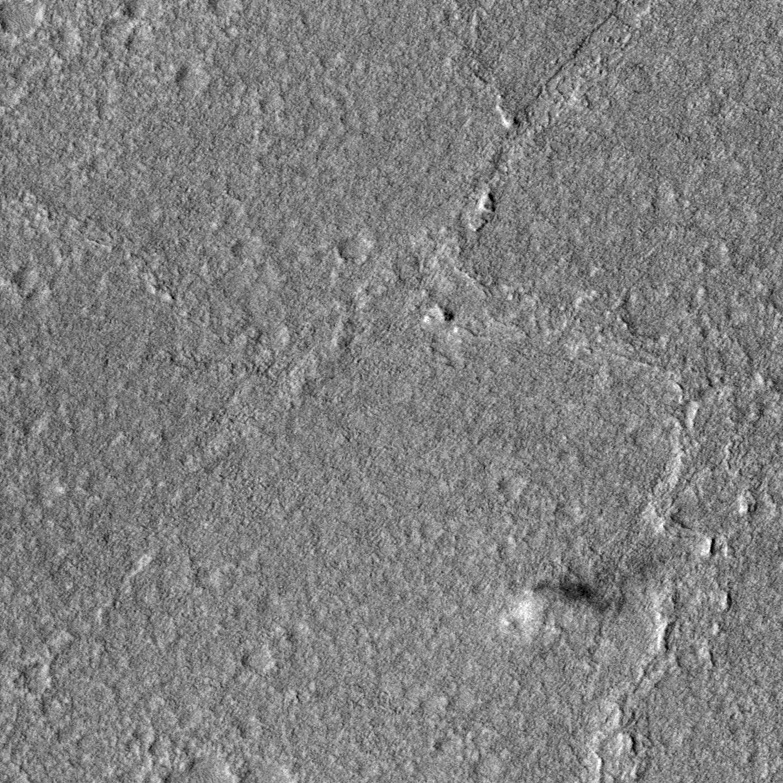dust_devil: (502, 565, 626, 631)
